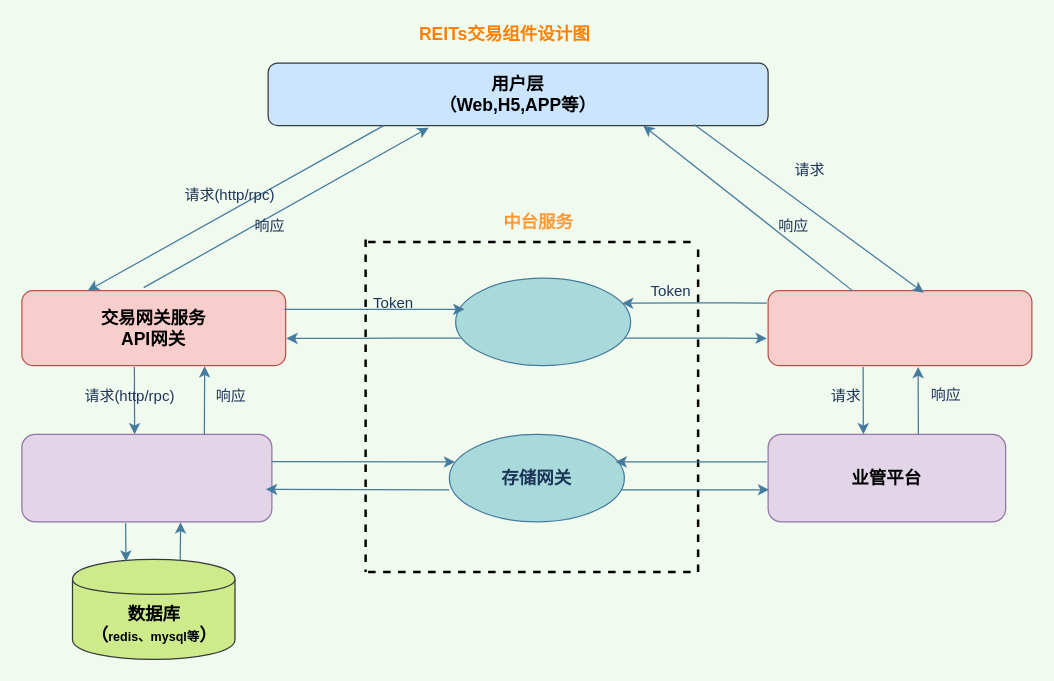
The diagram is 1054 pixels wide and 681 high, and some of its shapes have lost their labels. The shapes that lost their labels are listed below. From the top down, each one's centre as x and y in pixels, then its label:
point 542,321: UUMS服务 ( 处理登录，验证token )
point 899,327: 企业网关
point 146,477: REITs后端服务
